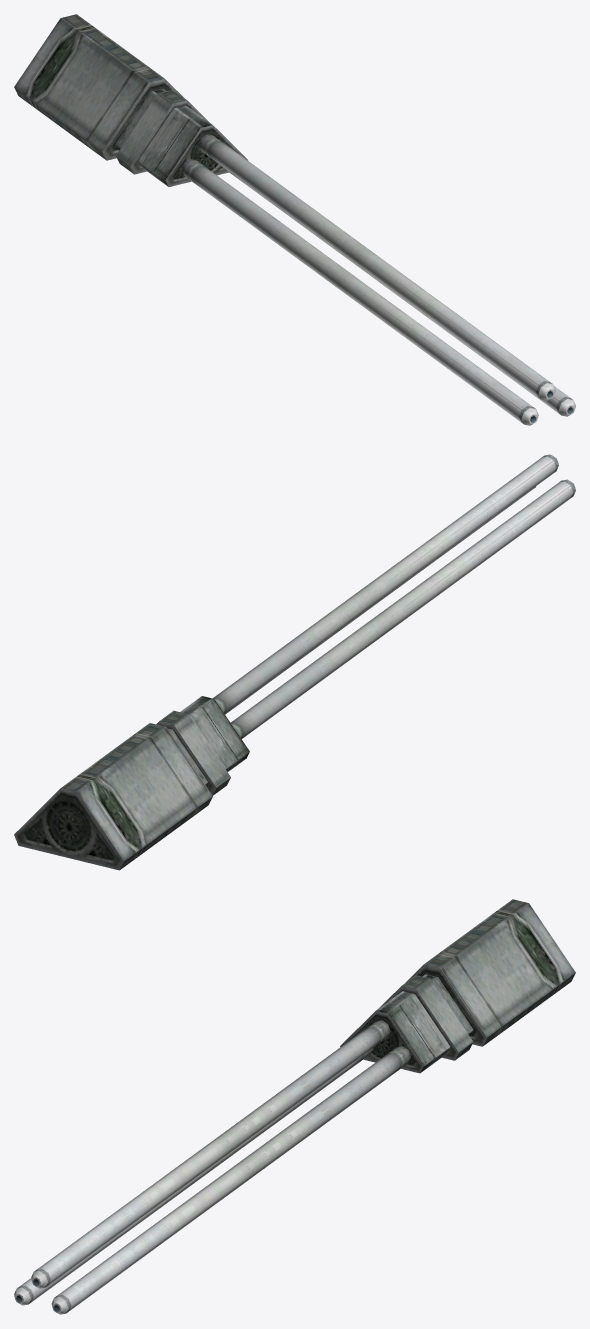
Rendered from bwing_weapon2r_s04_l0.fbx.
3 views of the same model, one above another, from view 1: azimuth 30°, elevation 25°; view 2: azimuth 150°, elevation 25°; view 3: azimuth 330°, elevation 25° (orthographic).
Parts seen in each view (by area): view 1: mesh_node; view 2: mesh_node; view 3: mesh_node.
Part boxes in pixels (box(x1,y1,x2,y2)): mesh_node: box(14, 14, 575, 425); mesh_node: box(14, 454, 575, 870); mesh_node: box(14, 899, 575, 1314).
Bounding box in the file's own units: 0.374 × 0.2212 × 2.85.
